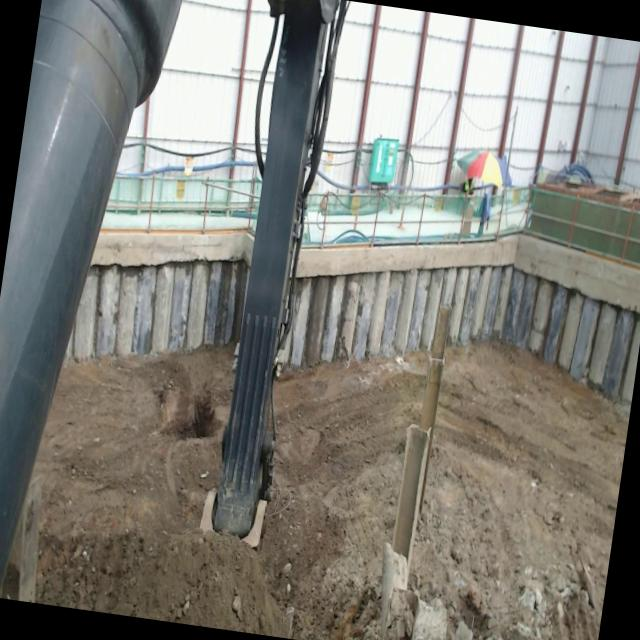red-sand: (35, 349, 426, 640), (385, 344, 630, 640)
